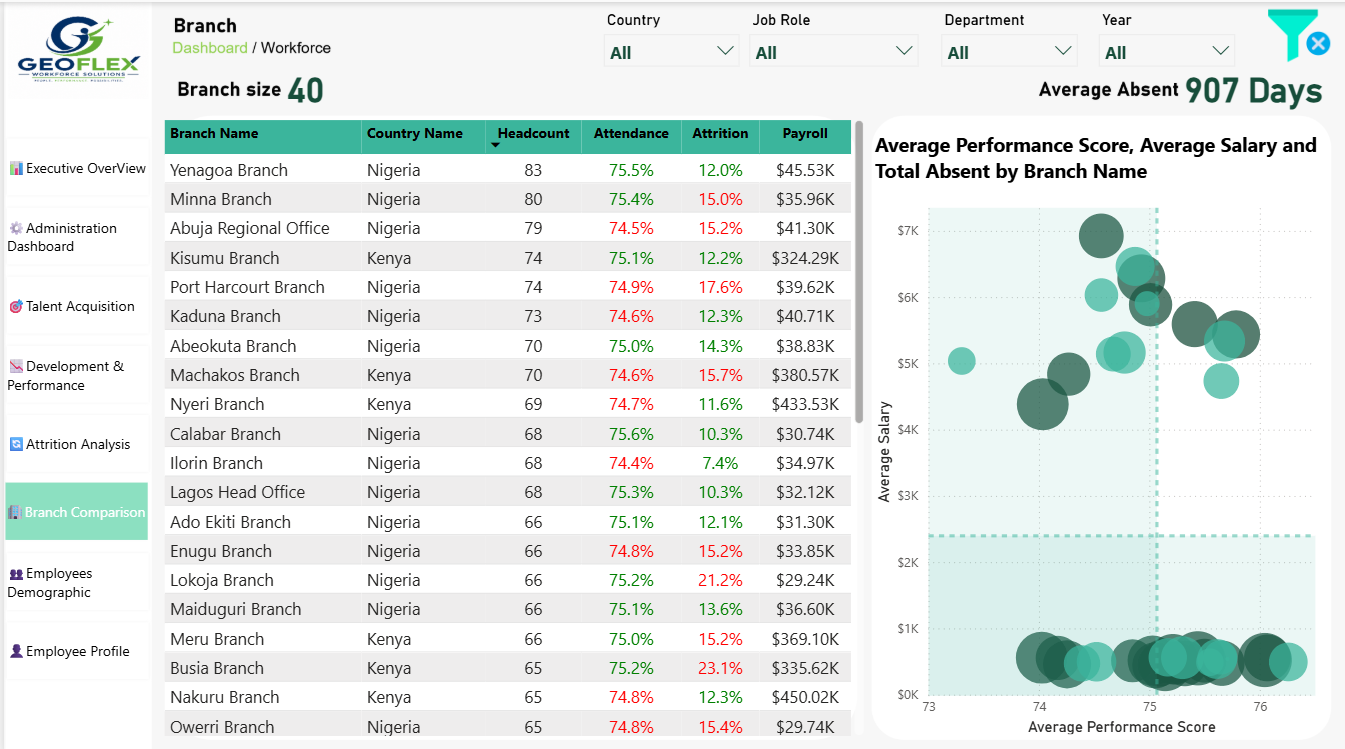

The page's visual inventory and layout, read from the dashboard file:
{"tool":"powerbi","page":{"name":"🏢Branch Comparison","canvas":[1280,720],"ordinal":5},"visuals":[{"type":"tableEx","fields":{"Values":["Branches.BranchName","Branches.CountryName","_Dax House.Total Employee","_Dax House.Present Ateendance Rate %","_Dax House.Attrition Rate","_Dax House.Total Payroll"]},"box":[147.8,107.3,678.5,597.5],"z":0},{"type":"scatterChart","fields":{"Size":["_Dax House.Total Absent"],"Y":["_Dax House.Average Salary"],"X":["_Dax House.Average Performance Score"],"Category":["Employees.BranchName"]},"box":[826.3,123.5,437.5,581.3],"z":1000},{"type":"card","fields":{"Values":["_Dax House.Total Branch"]},"box":[239,36.5,97.2,91.1],"z":2000},{"type":"pageNavigator","box":[0,127.2,141.6,529.7],"z":3000},{"type":"card","fields":{"Values":["_Dax House.Average Branch absent"]},"box":[1105.8,36.5,174.2,91.1],"z":4000},{"type":"slicer","fields":{"Values":["Departments.DepartmentName"]},"box":[885.8,2.5,149.9,74.9],"z":5000},{"type":"slicer","fields":{"Values":["JobRoles.JobRole"]},"box":[702.1,2.5,181.3,74.8],"z":6000},{"type":"slicer","fields":{"Values":["Date Table.Year"]},"box":[1035.9,2.5,149.9,74.9],"z":7000},{"type":"image","box":[1192.5,3.2,87.5,58.9],"z":8000},{"type":"slicer","fields":{"Values":["Branches.CountryName"]},"box":[563.1,3.2,149.5,74.8],"z":9000}]}

Visuals, with their boxes on the page's 1280x720 design canvas (x1, y1, x2, y2). These are canvas units, not pixel positions in the 1345x749 screenshot, which may show the page scaled, cropped or inside an application window:
tableEx - Branches.BranchName x Branches.CountryName: x1=148, y1=107, x2=826, y2=705
scatterChart - _Dax House.Total Absent x _Dax House.Average Salary: x1=826, y1=124, x2=1264, y2=705
card - _Dax House.Total Branch: x1=239, y1=36, x2=336, y2=128
pageNavigator: x1=0, y1=127, x2=142, y2=657
card - _Dax House.Average Branch absent: x1=1106, y1=36, x2=1280, y2=128
slicer - Departments.DepartmentName: x1=886, y1=2, x2=1036, y2=77
slicer - JobRoles.JobRole: x1=702, y1=2, x2=883, y2=77
slicer - Date Table.Year: x1=1036, y1=2, x2=1186, y2=77
image: x1=1192, y1=3, x2=1280, y2=62
slicer - Branches.CountryName: x1=563, y1=3, x2=713, y2=78
